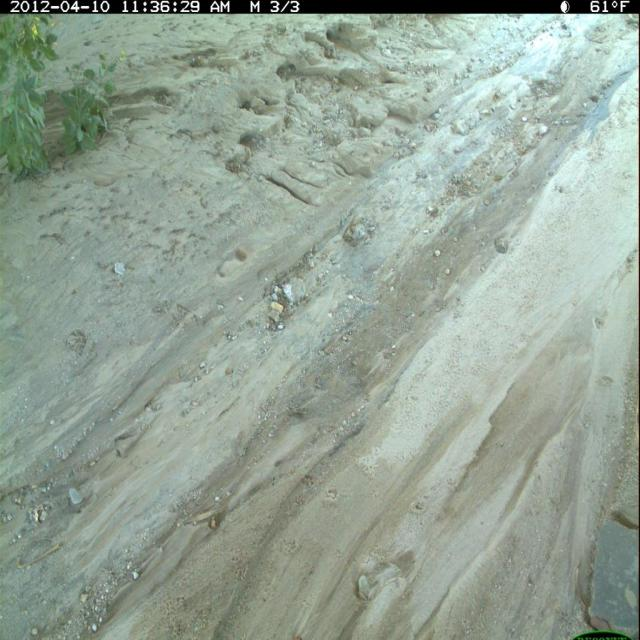bobcat: (3, 2, 639, 640)
